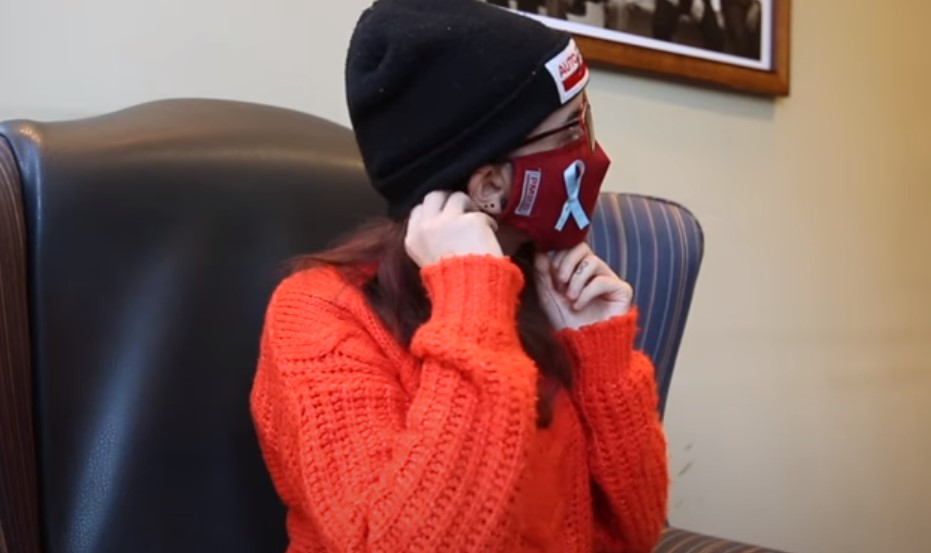face_with_mask: (347, 5, 604, 256)
